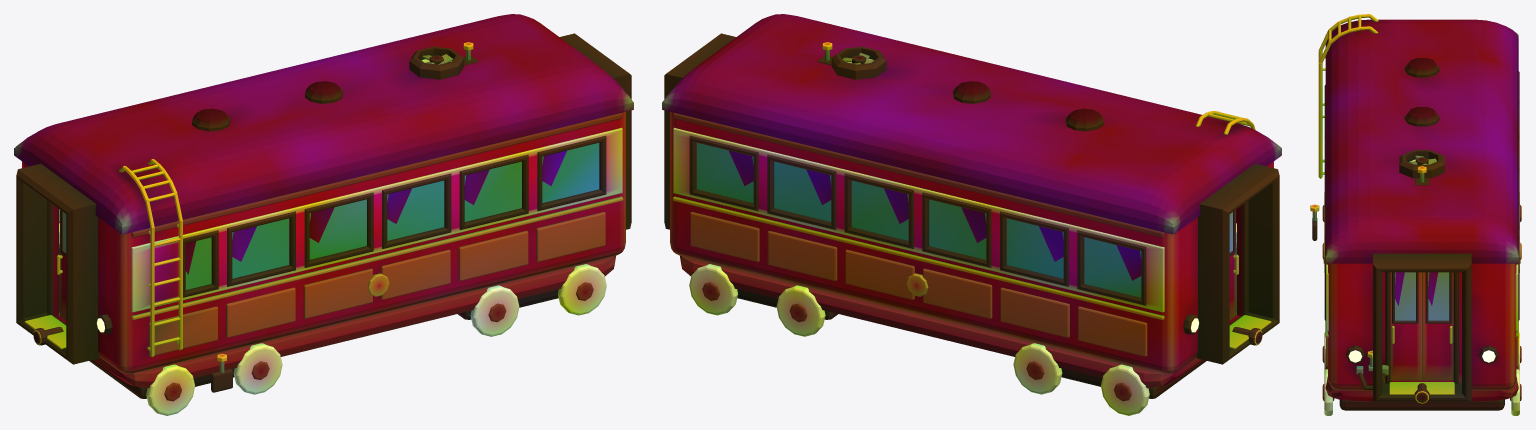
File: DieselCoach_Blockout.fbx
The picture shows the model from 3 angles, left to right: view 1: azimuth 30°, elevation 25°; view 2: azimuth 150°, elevation 25°; view 3: azimuth 270°, elevation 25°; orthographic projection. The views are drawn at different scales.
Parts seen in each view (by area): view 1: Roof, Body, Windows, Livery, Underframe, Ends, WindowBand, RoofLadder, EndDoorLeaf_R_Rear; view 2: Roof, Windows, Body, Livery, Underframe, Ends, WindowBand, EndDoorLeaf_L_Rear; view 3: Roof, Body, Ends, Underframe, EndDoorLeaf_L_Front, EndDoorLeaf_R_Front, RoofLadder, Windows, WindowBand, Coupler_Front, Livery.
Part boxes in pixels (x1,y1,x2,y2): Roof: (14,14,633,234); Body: (22,112,625,374); Windows: (59,135,606,297); Livery: (131,113,623,356); Underframe: (89,256,615,415); Ends: (16,33,631,364); WindowBand: (131,127,622,312); RoofLadder: (119,159,182,357); EndDoorLeaf_R_Rear: (57,210,66,319); Roof: (662,14,1281,234); Windows: (689,135,1146,305); Body: (670,112,1273,374); Livery: (672,113,1164,356); Underframe: (680,256,1206,415); Ends: (664,33,1279,364); WindowBand: (673,127,1164,312); EndDoorLeaf_L_Rear: (1229,210,1238,319); Roof: (1325,19,1518,263); Body: (1328,263,1516,390); Ends: (1346,253,1498,401); Underframe: (1322,192,1521,415); EndDoorLeaf_L_Front: (1390,272,1421,380); EndDoorLeaf_R_Front: (1422,272,1453,380); RoofLadder: (1318,14,1378,178); Windows: (1324,71,1519,320); WindowBand: (1326,264,1518,331); Coupler_Front: (1414,383,1429,403); Livery: (1325,263,1518,366).
Bounding box in the file's own units: 8.16 × 3.33 × 2.91.
